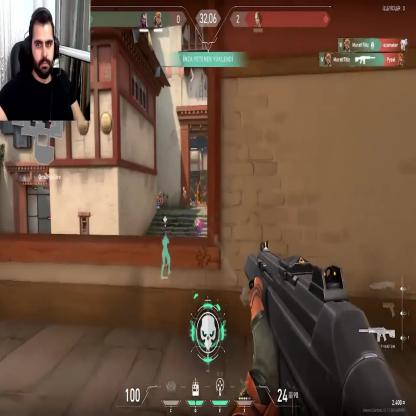enemy: (181, 186, 189, 212)
enemy_head: (182, 186, 185, 192)
